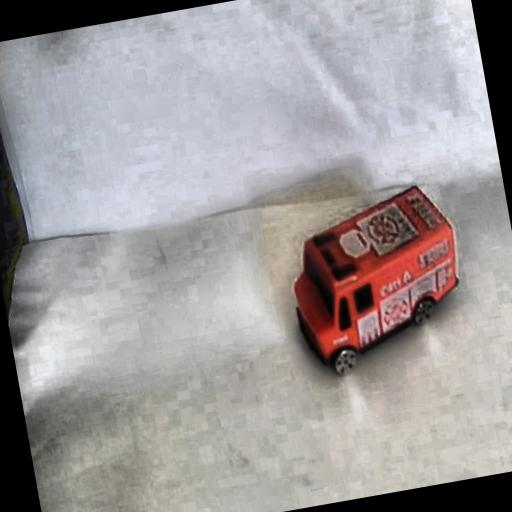fire_truck: (264, 172, 482, 391), (289, 266, 342, 366)
